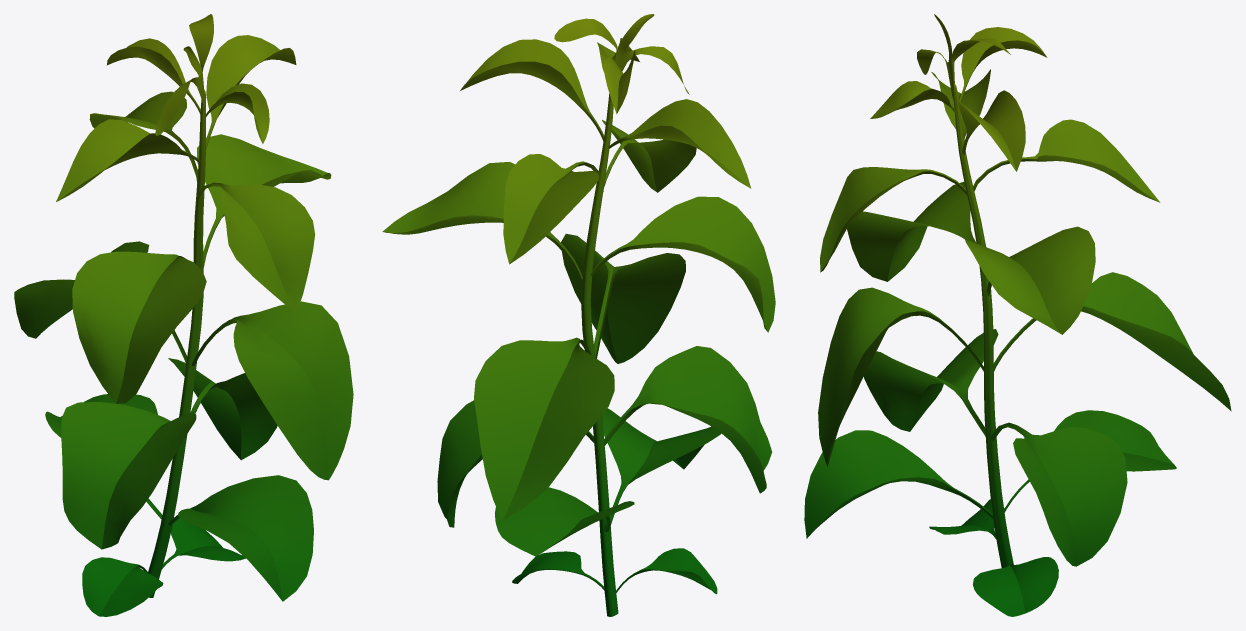
Rendered from nettle_plant_0.glb.
3 views of the same model, side by side, from view 1: azimuth 30°, elevation 25°; view 2: azimuth 150°, elevation 25°; view 3: azimuth 270°, elevation 25° (orthographic).
Parts seen in each view (by area): view 1: nettle_plant_medium_a_LOD0; view 2: nettle_plant_medium_a_LOD0; view 3: nettle_plant_medium_a_LOD0.
Boxes of the visible parts, x1=… form: nettle_plant_medium_a_LOD0: x1=14, y1=14, x2=353, y2=616; nettle_plant_medium_a_LOD0: x1=382, y1=14, x2=775, y2=616; nettle_plant_medium_a_LOD0: x1=804, y1=14, x2=1231, y2=616.
Size of the model in its own units: 0.0773 by 0.1315 by 0.0891.
